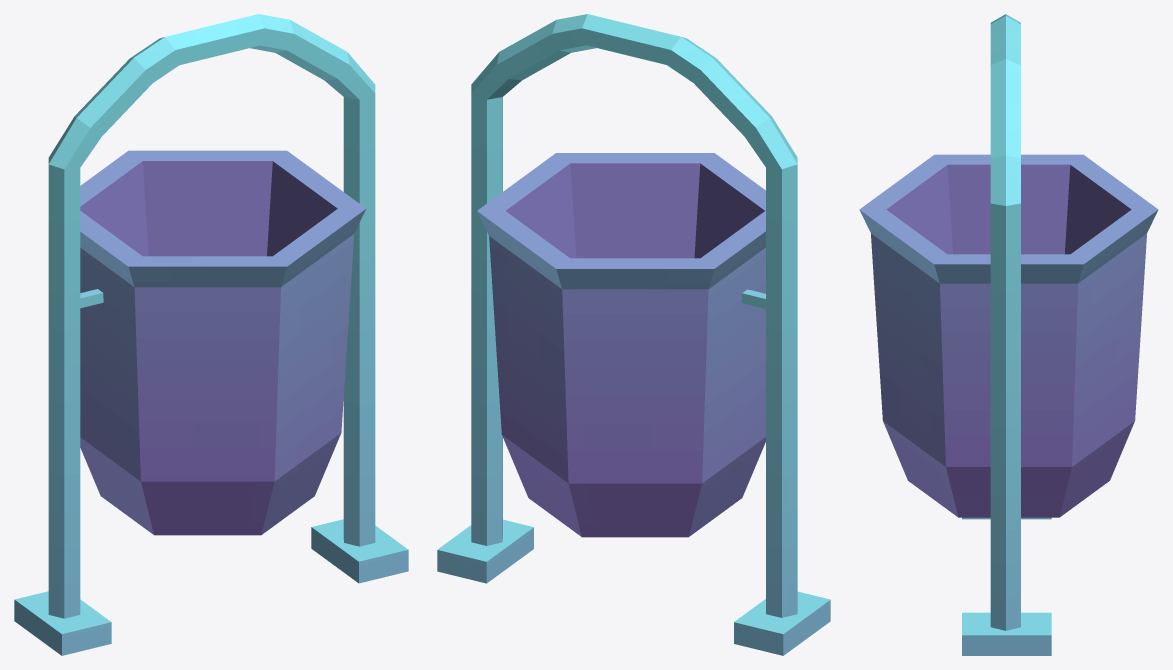
The model's file is trash_can.obj.
The picture shows the model from 3 angles, left to right: view 1: azimuth 30°, elevation 25°; view 2: azimuth 150°, elevation 25°; view 3: azimuth 270°, elevation 25°; orthographic projection. The views are drawn at different scales.
Visible parts, largest first — view 1: trash_can; view 2: trash_can; view 3: trash_can.
Boxes of the visible parts, x1=… form: trash_can: x1=14, y1=14, x2=408, y2=655; trash_can: x1=437, y1=14, x2=830, y2=655; trash_can: x1=859, y1=14, x2=1158, y2=655.
Size of the model in its own units: 1.74 by 2.74 by 1.38.
Materials: 1 (1 with a texture image).
